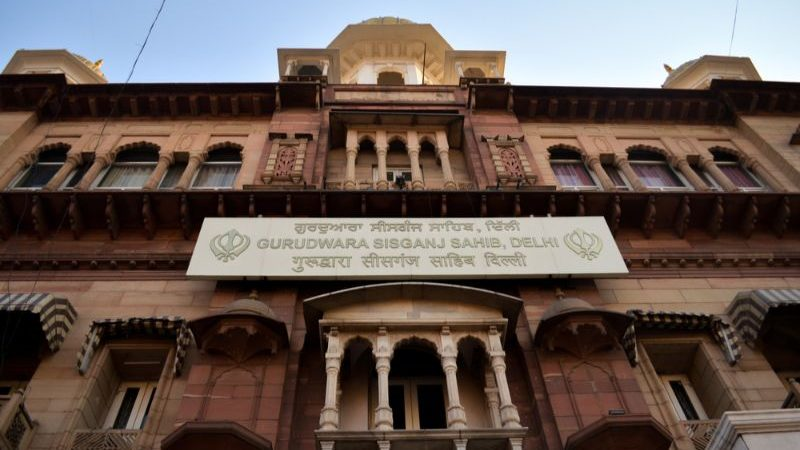Gurdwara: (11, 36, 792, 430)
